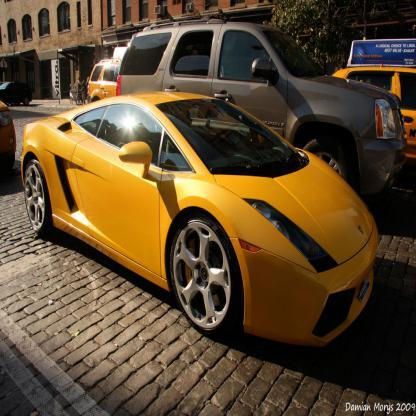car: (20, 92, 380, 348), (116, 8, 408, 206), (331, 60, 415, 162), (83, 58, 120, 106), (0, 100, 16, 174), (0, 82, 34, 108)
